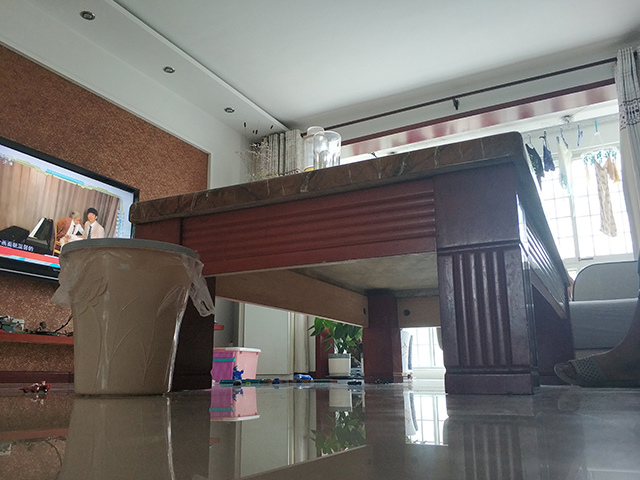table: (126, 130, 582, 397)
trashcan: (56, 235, 202, 397)
